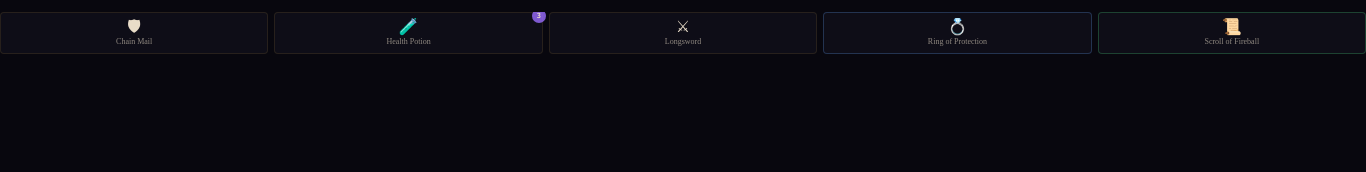
Test: InventoryList › interactions › should show "Read" for scroll context menu
Right-click the button labelled "📜 Scroll of Fireball" at (1232, 33), box 1098,12 -> 1365,54
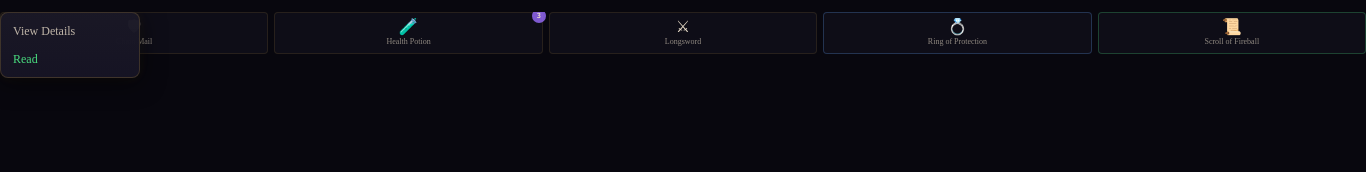
Expected: the button "Read" is shown, 1,45 -> 139,73
